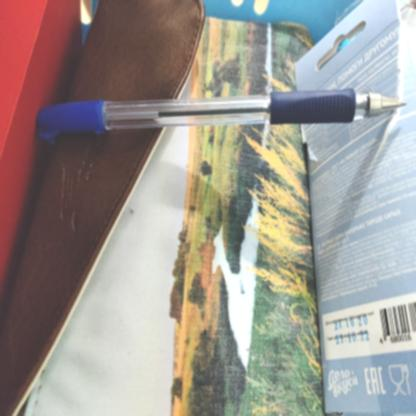pen: (34, 75, 415, 157)
